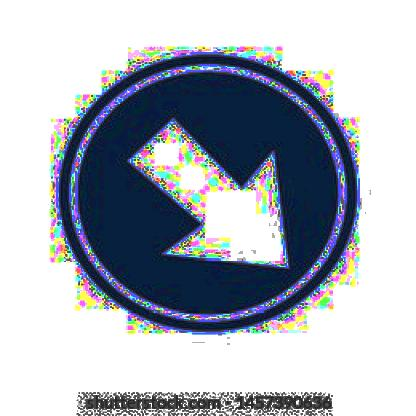Keep right: (59, 54, 364, 333)
